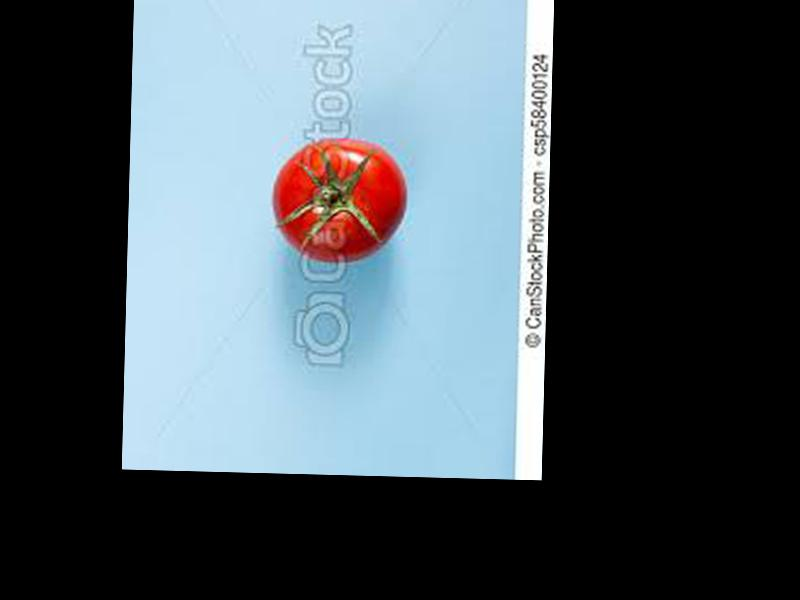Tomato: (272, 138, 410, 261)
